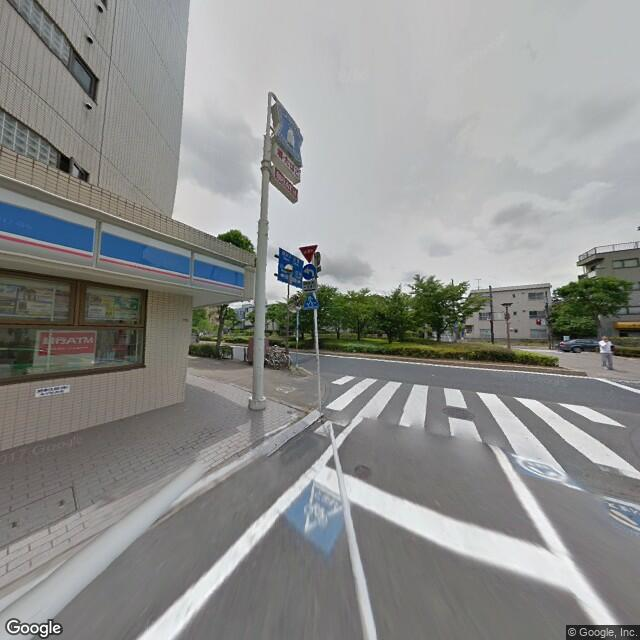lawson: (1, 184, 244, 302), (276, 95, 306, 165)
